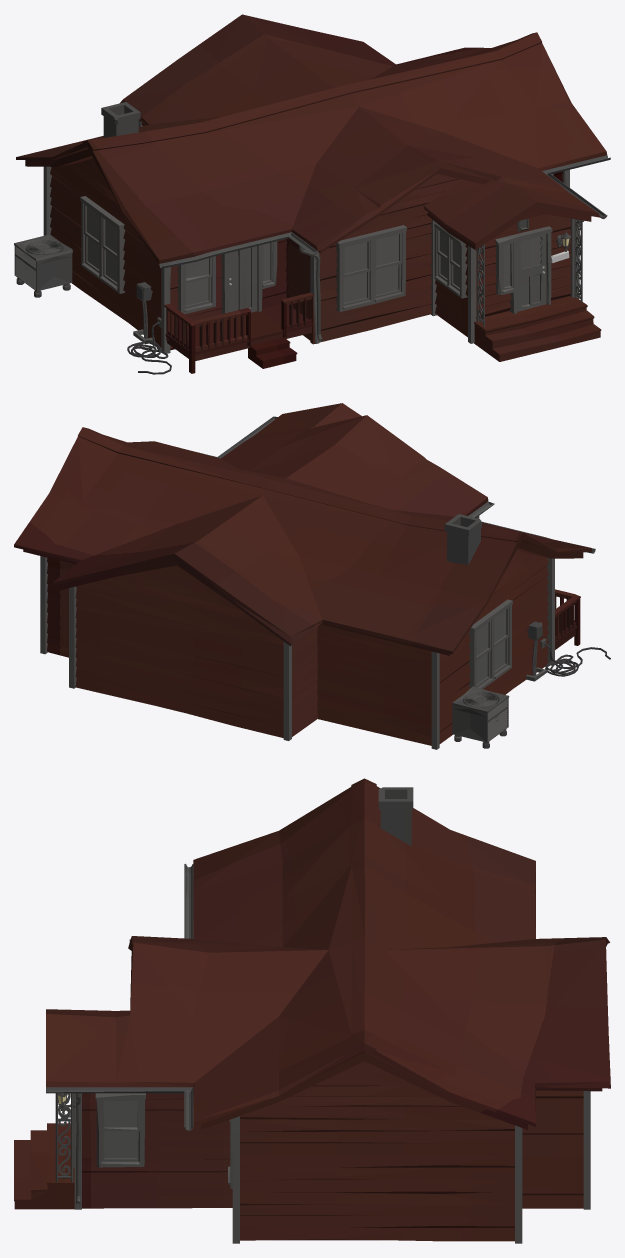
Rendered from House00.fbx.
3 renders of one model, top to bottom at view 1: azimuth 30°, elevation 25°; view 2: azimuth 150°, elevation 25°; view 3: azimuth 270°, elevation 25°, orthographic. The views are drawn at different scales.
Parts seen in each view (by area): view 1: SM_House_01.mo; view 2: SM_House_01.mo; view 3: SM_House_01.mo.
Part boxes in pixels (x1=…): SM_House_01.mo: x1=14, y1=14, x2=610, y2=374; SM_House_01.mo: x1=14, y1=403, x2=610, y2=749; SM_House_01.mo: x1=14, y1=778, x2=610, y2=1243.
Bounding box in the file's own units: 1377 × 530 × 1262.
